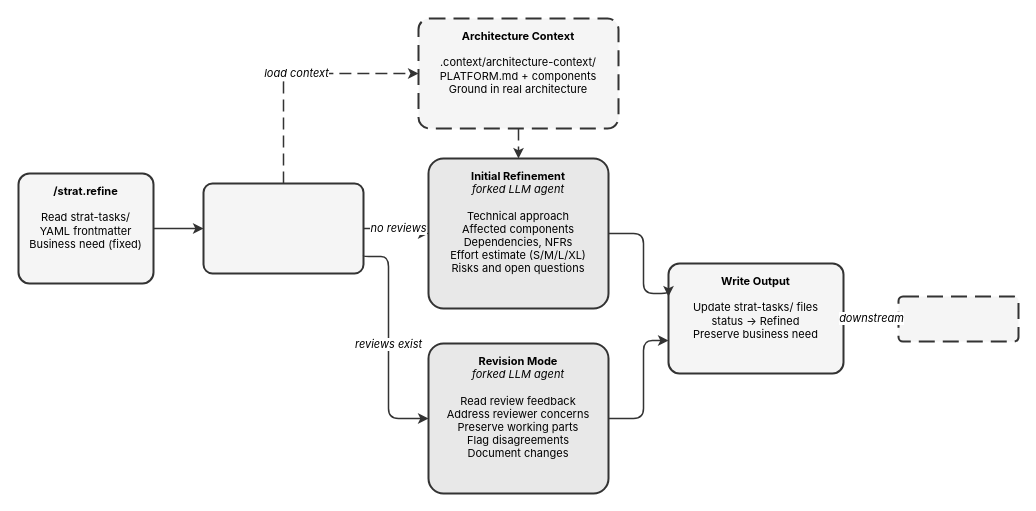
The diagram is 1036 pixels wide and 511 high, and some of its shapes have lost their labels. The centre of each missing label's shape, as x and y in pixels:
/strat.review: pixel 958 318
Check Reviews strat-reviews/ exist? Determines mode: initial vs revision: pixel 283 228
